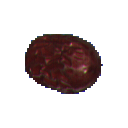gd: (11, 11, 117, 114)
